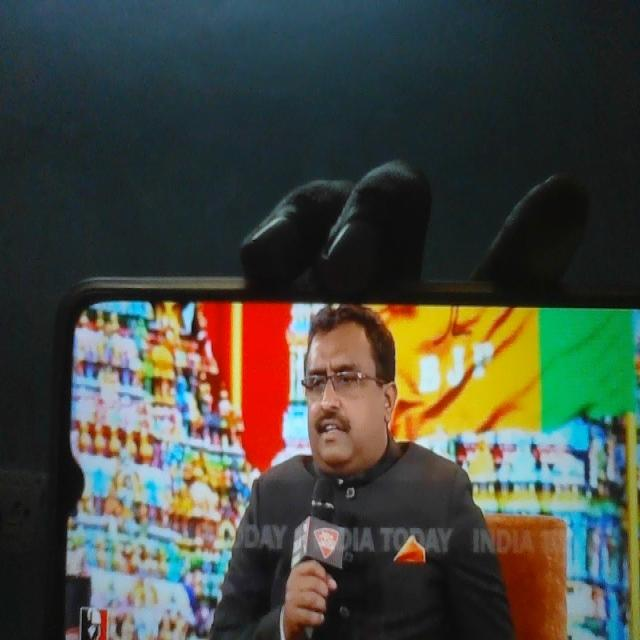fake: (288, 290, 398, 498)
